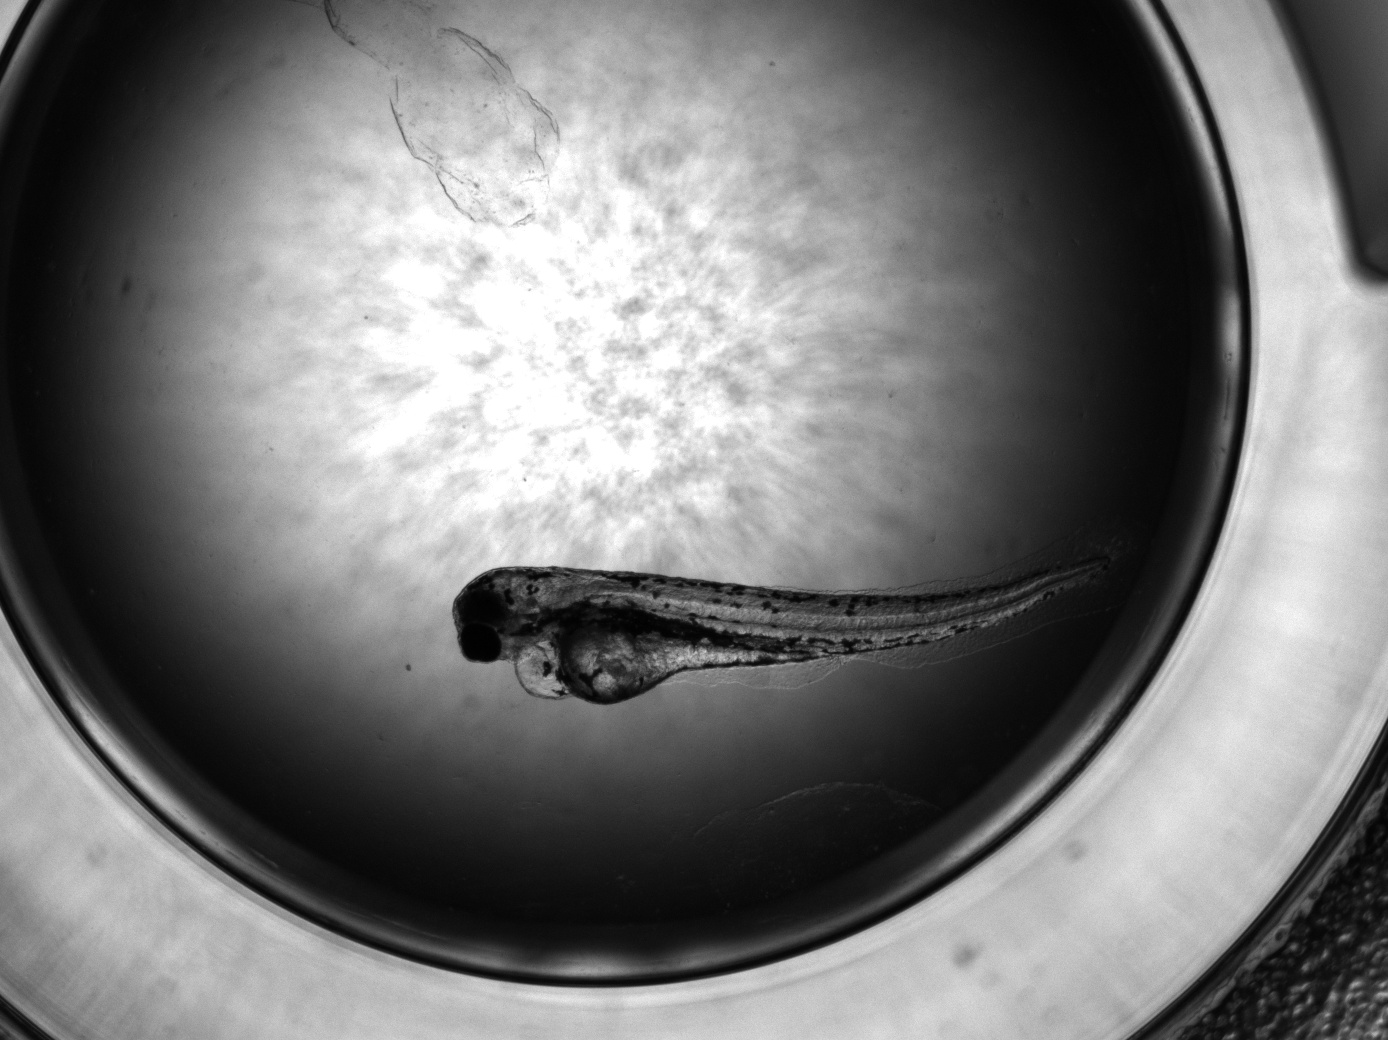debris: (324, 1, 562, 227)
embryo: (452, 557, 1115, 707)
eye: (459, 591, 505, 626), (461, 624, 500, 663)
yolksac: (514, 608, 811, 706)
